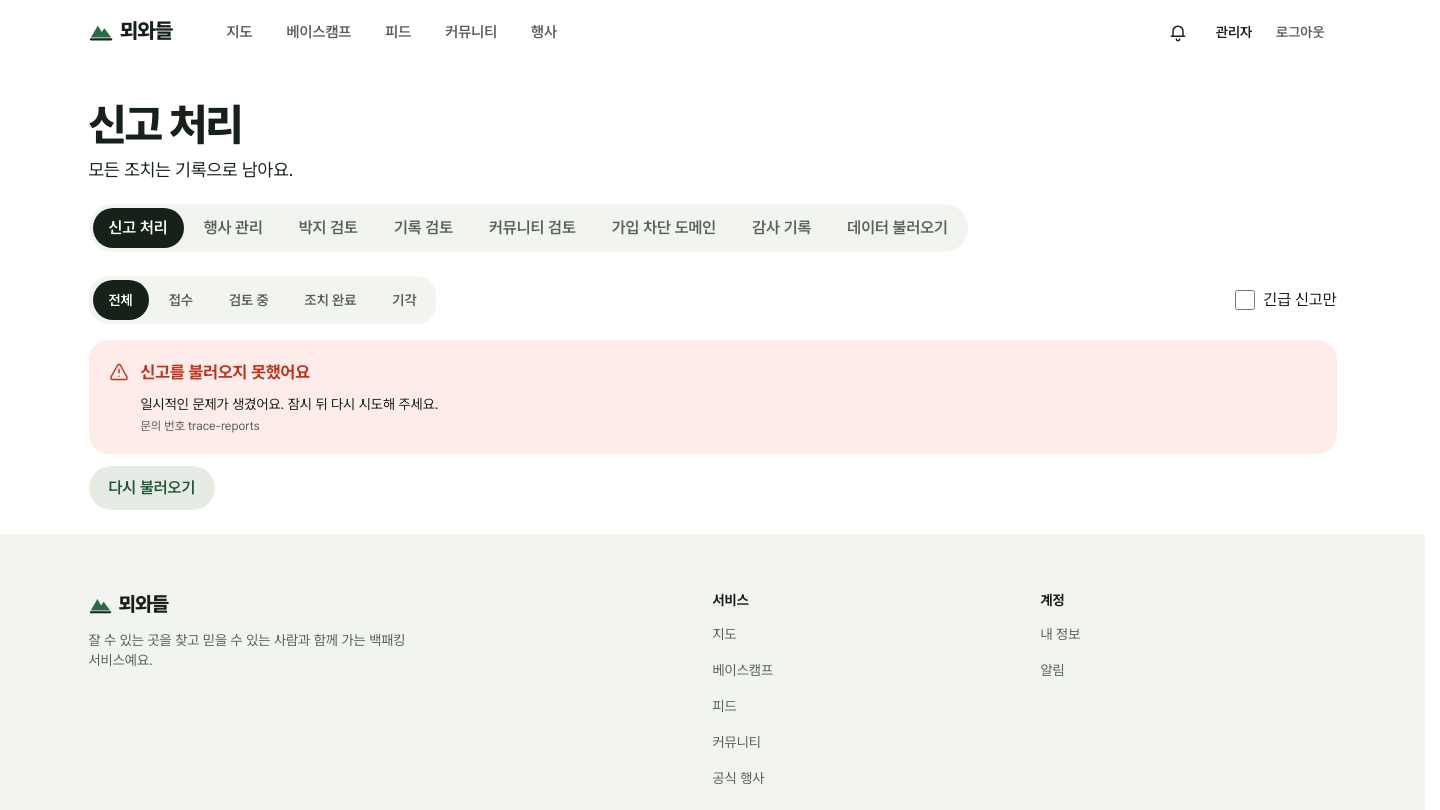
Test case: 관리자 신고 처리 목록 › 목록을 못 불러오면 오류와 문의 번호를 보여 주고, 다시 불러오기로 목록을 되찾는다
Click the button "다시 불러오기": (152,488) [88,466,215,510]
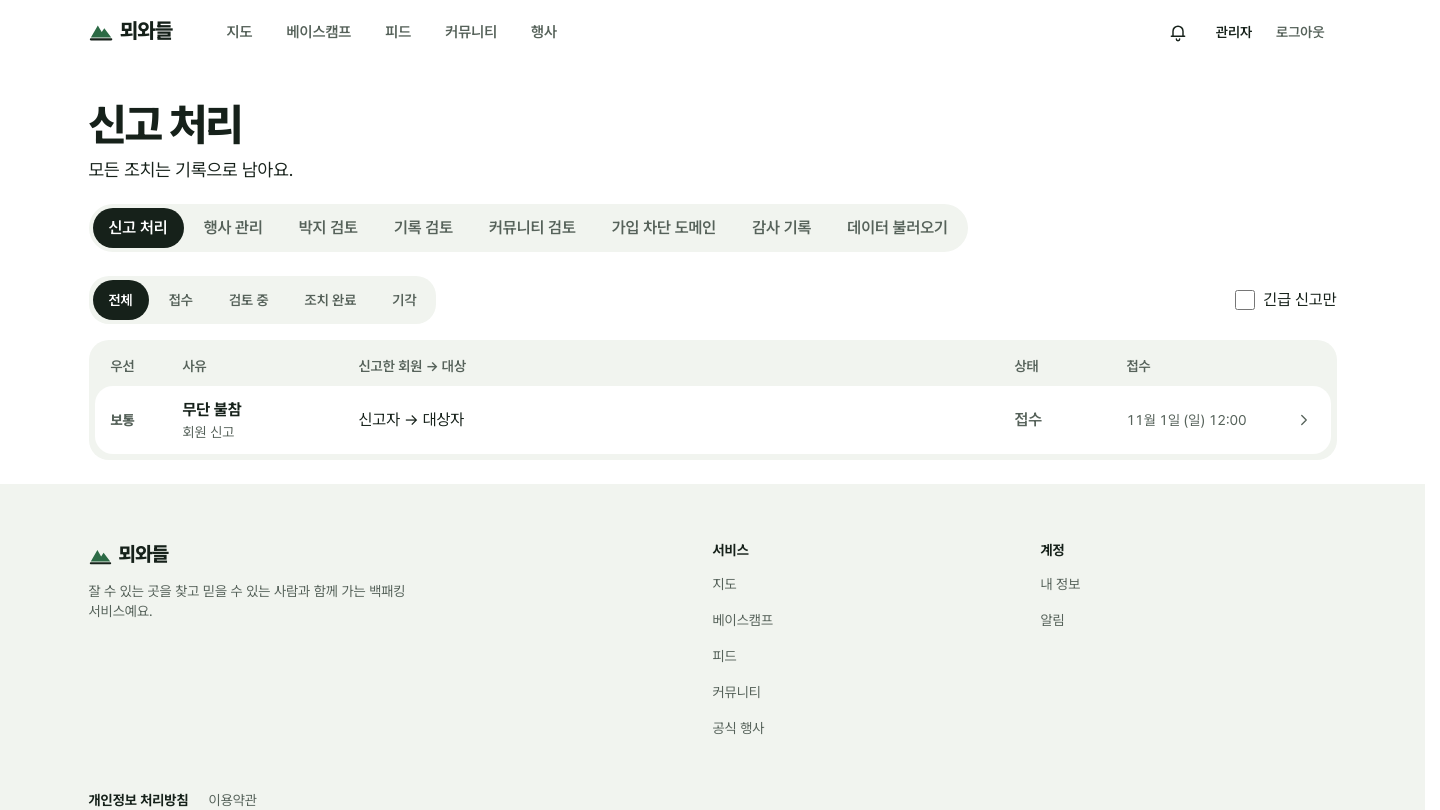
Expected: the message "신고를 불러오지 못했어요 일시적인 문제가 생겼어요. 잠시 뒤 다시 시도해 주세요. 문의 번호 trace-reports 다시 불러오기" is gone
